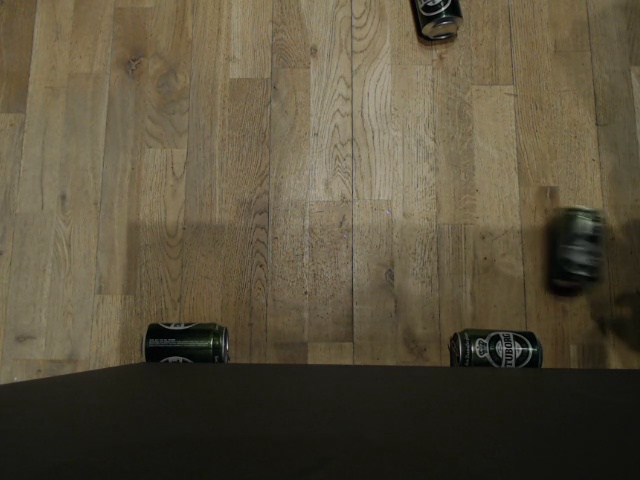beer: (444, 326, 546, 371), (557, 202, 605, 294), (134, 321, 227, 363), (410, 0, 464, 41)
